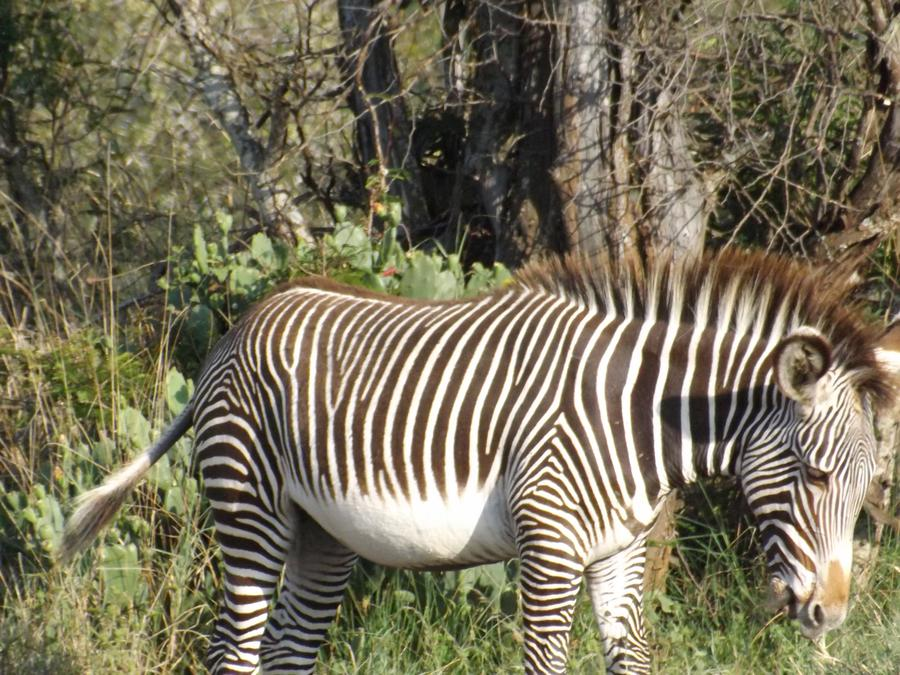zebra_grevys: (209, 258, 620, 543)
